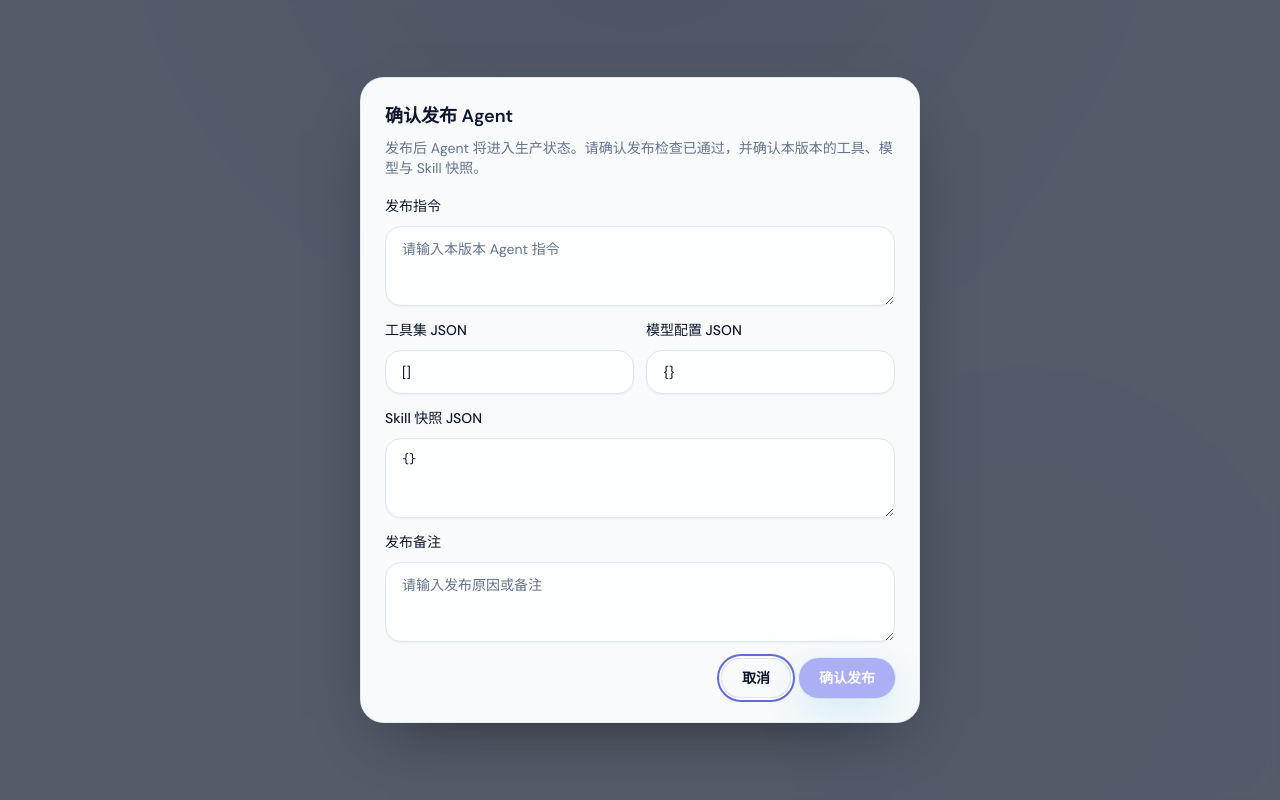
Test case: AgentPublishDialog › requires a change summary before publish is enabled
Expected: the button "确认发布" is disabled, [799,658,895,698]
Step 1. Type "be useful" into the text box with placeholder "请输入本版本 Agent 指令" → (640, 266), box [385,226,895,306]
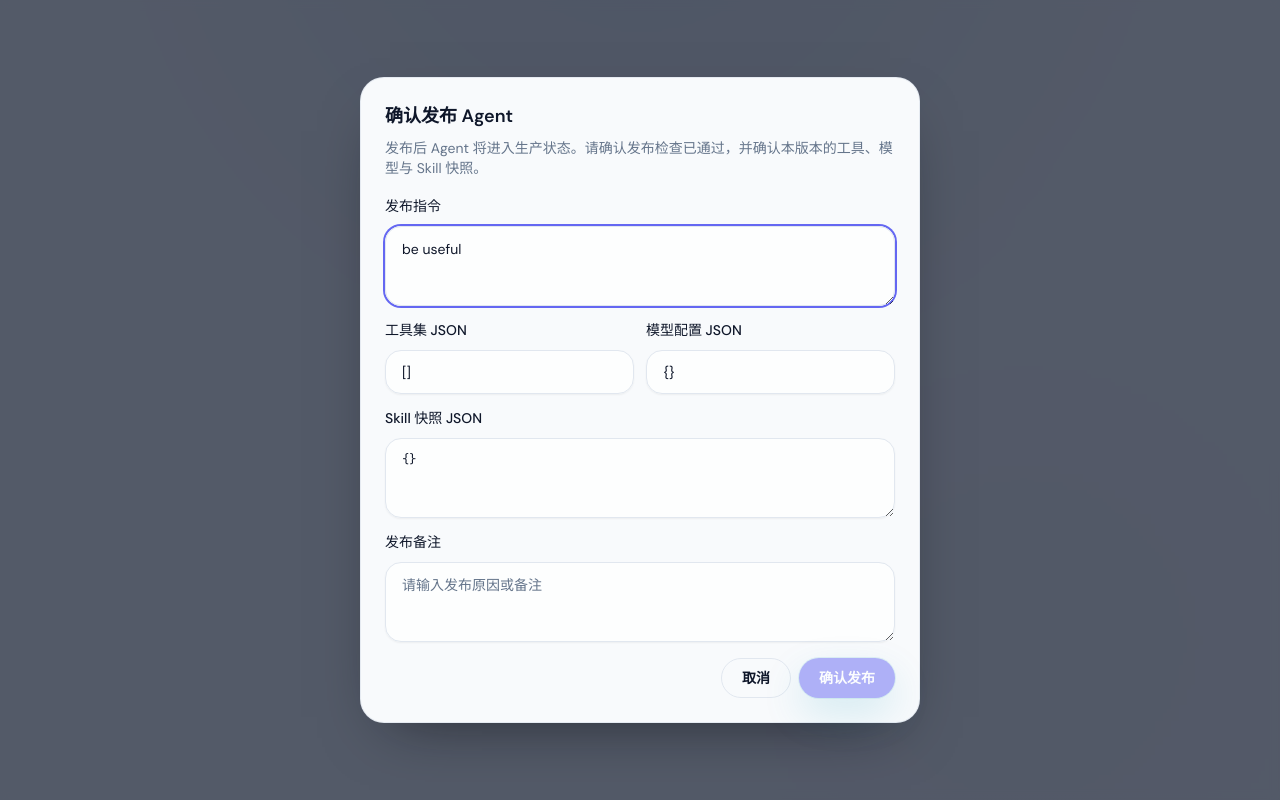
Expected: the button "确认发布" is disabled, [799,658,895,698]
Step 2. Type "initial release" into the text box with placeholder "请输入发布原因或备注" → (640, 602), box [385,562,895,642]
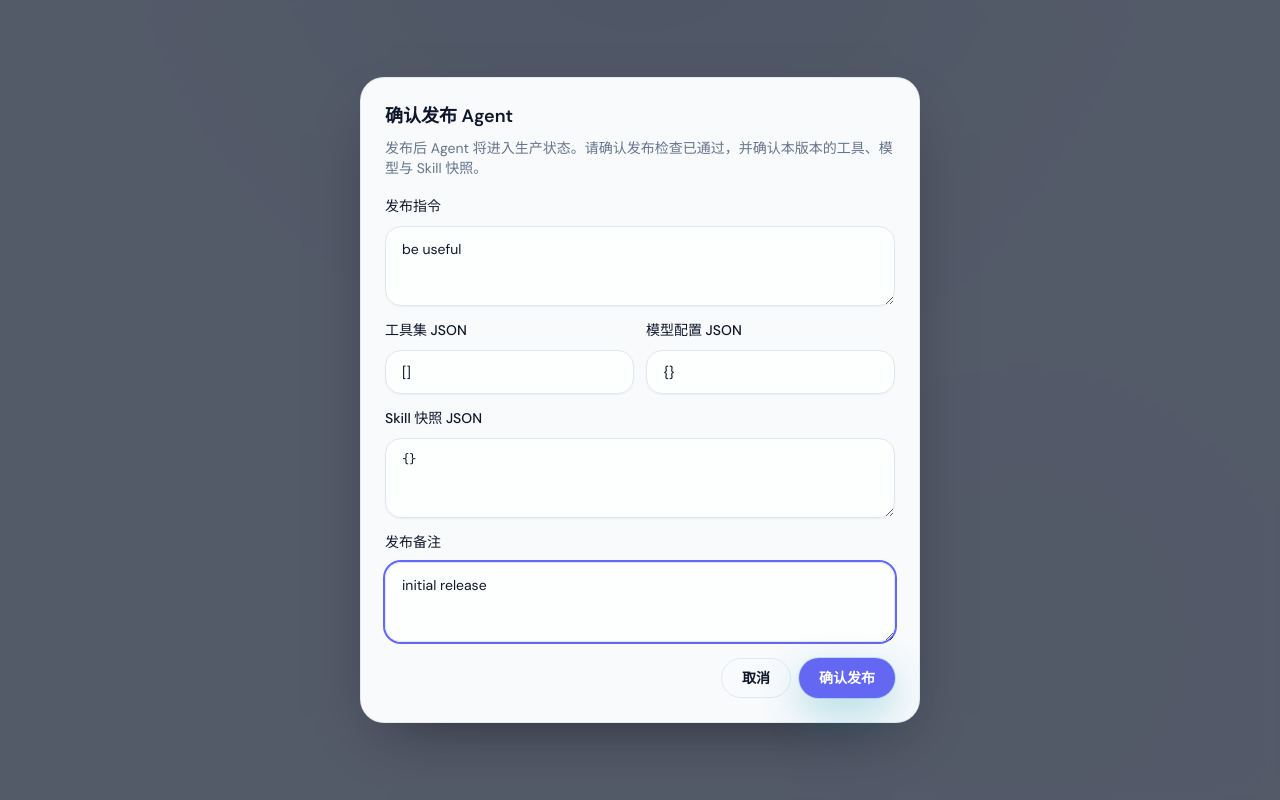
Expected: the button "确认发布" is enabled, [799,658,895,698]
